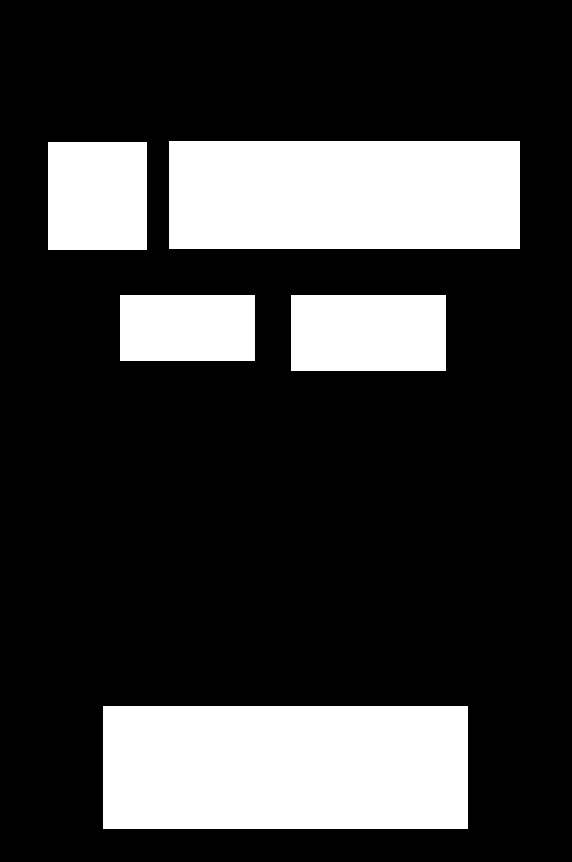table: (103, 706, 467, 828), (169, 141, 519, 248), (291, 295, 445, 370), (48, 142, 146, 249), (120, 295, 254, 360)
